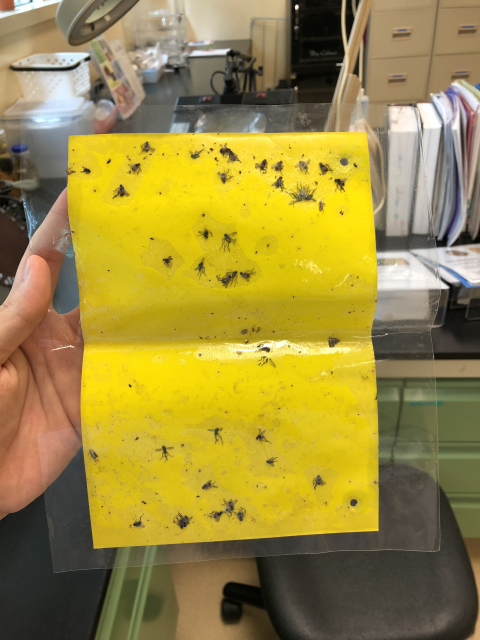DBM: (316, 197, 330, 216), (326, 333, 341, 349), (87, 448, 100, 463)
